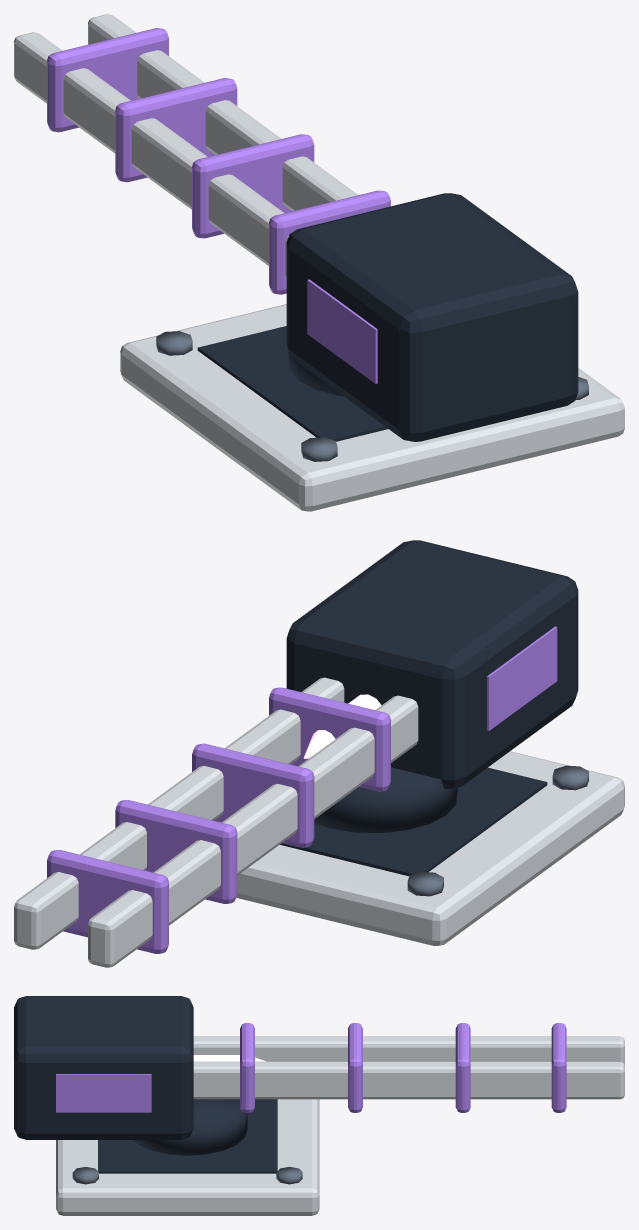
Rendered from rail.fbx.
3 renders of one model, top to bottom at view 1: azimuth 30°, elevation 25°; view 2: azimuth 150°, elevation 25°; view 3: azimuth 270°, elevation 25°, orthographic. The views are drawn at different scales.
Visible parts, largest first — view 1: Inset_Breech0, Panel_Plate0.006, Panel_Rail0, Panel_Rail1, Inset_Inset0.006, Emit_Coil1, Emit_Coil2, Emit_Coil3, Emit_Screen0, Emit_Coil0, Gun_Bolt0.006, Gun_Bolt1.006 (+1 smaller); view 2: Inset_Breech0, Panel_Plate0.006, Panel_Rail0, Panel_Rail1, Inset_Inset0.006, Inset_Ring0.006, Emit_Coil3, Emit_Coil1, Emit_Coil2, Emit_Coil0, Emit_Screen0, Gun_Bolt0.006 (+1 smaller); view 3: Inset_Breech0, Panel_Plate0.006, Panel_Rail1, Panel_Rail0, Inset_Inset0.006, Emit_Screen1, Inset_Ring0.006, Emit_Coil2, Emit_Coil3, Emit_Coil0, Emit_Coil1, Gun_Bolt2.006 (+2 smaller).
Boxes of the visible parts, bbox=[...] form: Inset_Breech0: bbox=[286, 193, 578, 441]; Panel_Plate0.006: bbox=[120, 304, 624, 511]; Panel_Rail0: bbox=[14, 32, 288, 277]; Panel_Rail1: bbox=[88, 14, 358, 211]; Inset_Inset0.006: bbox=[197, 326, 387, 441]; Emit_Coil1: bbox=[192, 134, 314, 238]; Emit_Coil2: bbox=[115, 78, 237, 182]; Emit_Coil3: bbox=[47, 28, 168, 132]; Emit_Screen0: bbox=[307, 279, 377, 383]; Emit_Coil0: bbox=[269, 190, 390, 294]; Gun_Bolt0.006: bbox=[301, 437, 337, 461]; Gun_Bolt1.006: bbox=[156, 331, 192, 355]; Inset_Breech0: bbox=[286, 540, 578, 788]; Panel_Plate0.006: bbox=[236, 751, 624, 945]; Panel_Rail0: bbox=[88, 695, 418, 967]; Panel_Rail1: bbox=[14, 677, 344, 949]; Inset_Inset0.006: bbox=[280, 767, 547, 876]; Inset_Ring0.006: bbox=[314, 767, 457, 832]; Emit_Coil3: bbox=[47, 850, 168, 953]; Emit_Coil1: bbox=[192, 743, 314, 847]; Emit_Coil2: bbox=[115, 800, 237, 903]; Emit_Coil0: bbox=[269, 687, 390, 791]; Emit_Screen0: bbox=[487, 626, 557, 730]; Gun_Bolt0.006: bbox=[552, 765, 588, 790]; Inset_Breech0: bbox=[14, 996, 193, 1139]; Panel_Plate0.006: bbox=[56, 1099, 319, 1215]; Panel_Rail1: bbox=[193, 1061, 624, 1099]; Panel_Rail0: bbox=[193, 1036, 624, 1065]; Inset_Inset0.006: bbox=[98, 1099, 277, 1173]; Emit_Screen1: bbox=[56, 1074, 151, 1112]; Inset_Ring0.006: bbox=[133, 1099, 247, 1155]; Emit_Coil2: bbox=[455, 1023, 470, 1112]; Emit_Coil3: bbox=[551, 1023, 566, 1112]; Emit_Coil0: bbox=[240, 1023, 254, 1112]; Emit_Coil1: bbox=[348, 1023, 362, 1112]; Gun_Bolt2.006: bbox=[72, 1167, 98, 1184].
Bounding box in the file's own units: 0.44 × 1.02 × 0.26.
